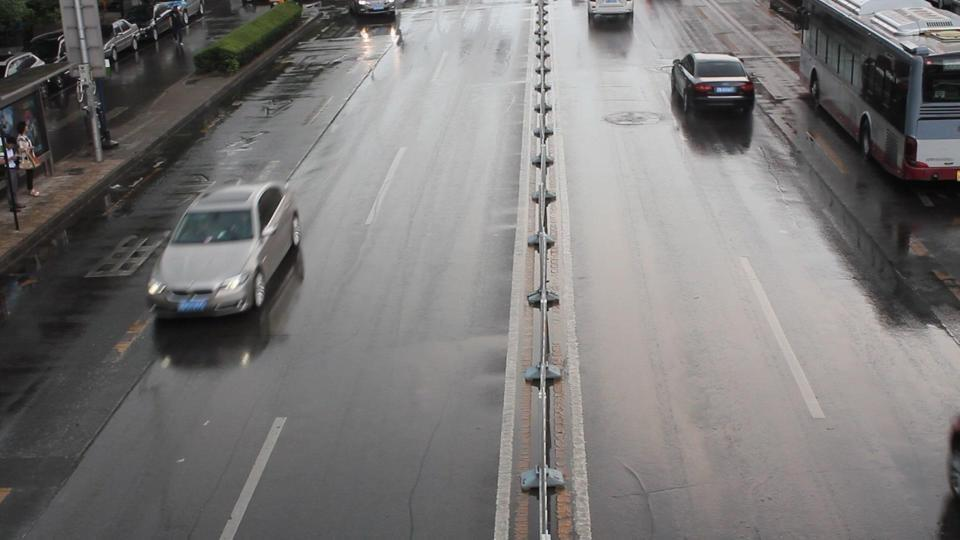car: (147, 181, 304, 320), (669, 51, 755, 117), (946, 413, 960, 500), (588, 0, 635, 25), (351, 0, 397, 18)
